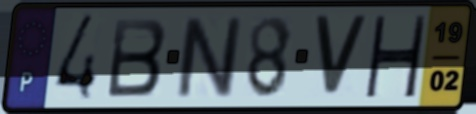4: (51, 12, 100, 104)
8: (244, 14, 294, 100)
B: (105, 16, 170, 100)
H: (361, 13, 429, 100)
N: (174, 14, 244, 101)
V: (311, 13, 372, 101)
